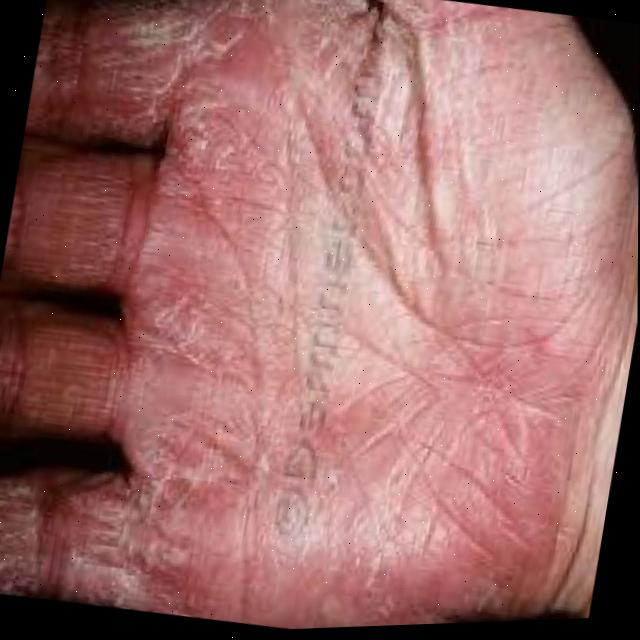Eczema: (15, 0, 493, 612)
